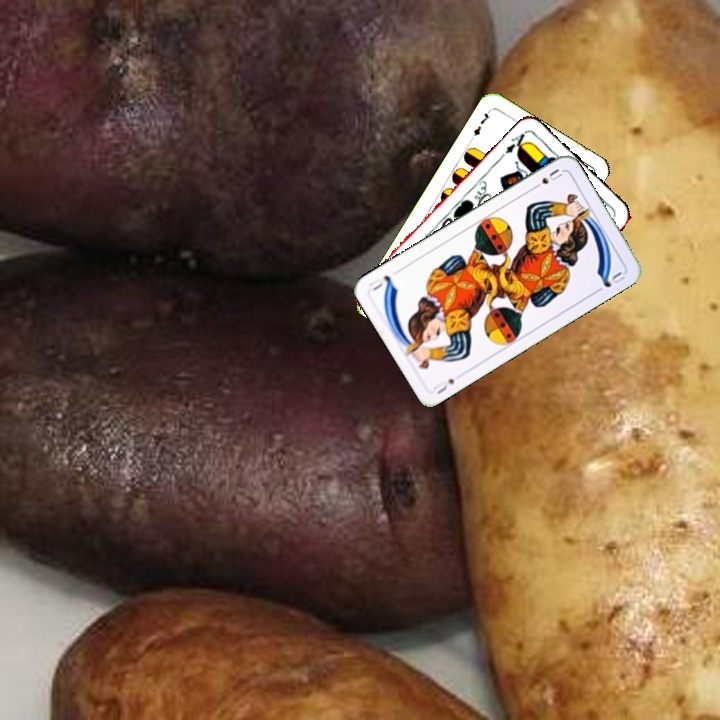E7: (467, 106, 494, 143)
EA: (501, 127, 530, 156)
SU: (528, 164, 565, 192), (430, 374, 457, 397)
